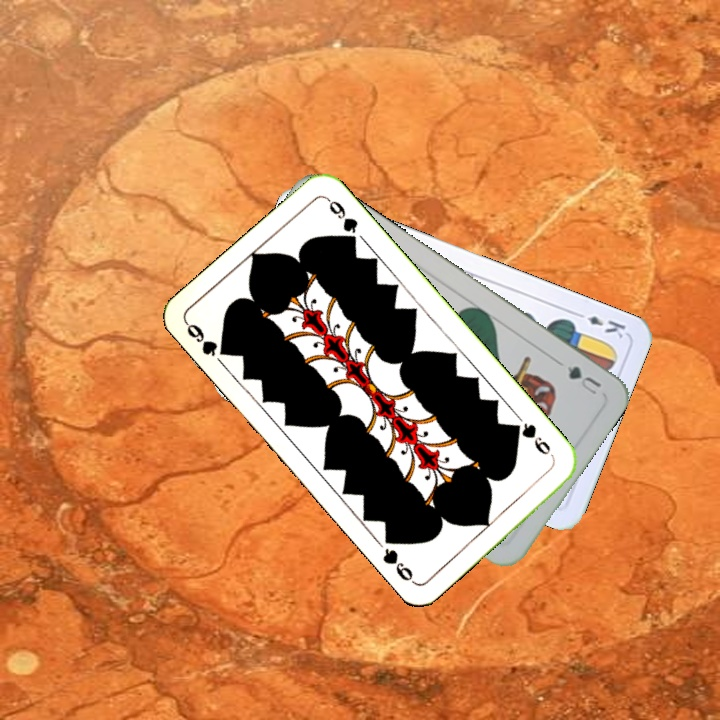EK: (571, 307, 628, 341)
G9: (182, 318, 234, 360), (508, 419, 553, 458)
GU: (554, 357, 604, 398)
